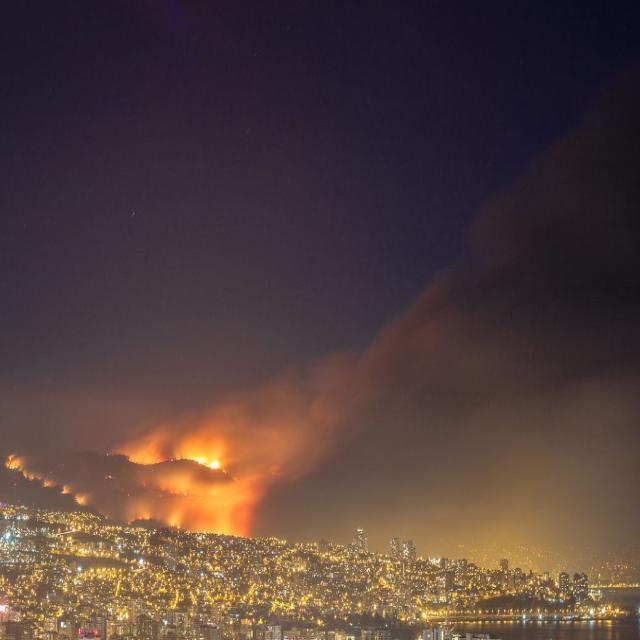Fire: (214, 514, 236, 534), (128, 508, 152, 524), (5, 452, 22, 474), (171, 483, 190, 498), (208, 450, 220, 472), (74, 492, 88, 506), (22, 469, 35, 482), (170, 514, 182, 528), (138, 456, 154, 466), (196, 454, 208, 466), (44, 478, 56, 489), (61, 483, 72, 495), (195, 524, 208, 534), (171, 454, 182, 464), (104, 474, 116, 480)
Smoke: (460, 86, 638, 407), (224, 352, 372, 474), (372, 254, 459, 436), (138, 398, 224, 448), (198, 474, 270, 516)
